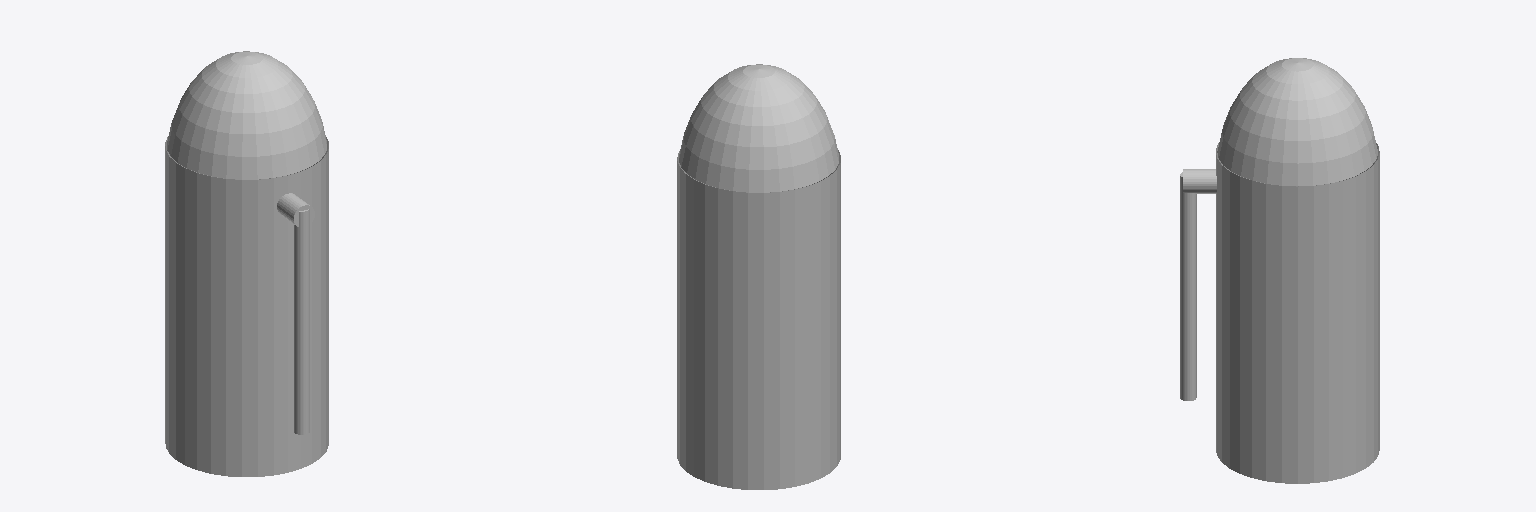
The model's file is silo.obj.
The picture shows the model from 3 angles: view 1: azimuth 30°, elevation 25°; view 2: azimuth 150°, elevation 25°; view 3: azimuth 270°, elevation 25°; orthographic projection.
Parts seen in each view (by area): view 1: Cylinder_Cylinder.001; view 2: Cylinder_Cylinder.001; view 3: Cylinder_Cylinder.001.
Part boxes in pixels (x1,y1,x2,y2): Cylinder_Cylinder.001: (165,51,328,476); Cylinder_Cylinder.001: (677,64,840,489); Cylinder_Cylinder.001: (1180,58,1379,483).
Size of the model in its own units: 4 by 10.4 by 4.87.